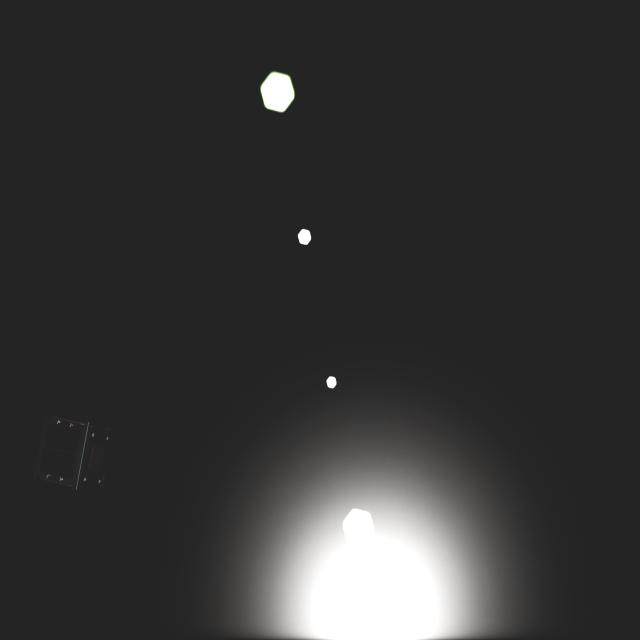medium_debris: (28, 409, 126, 500)
